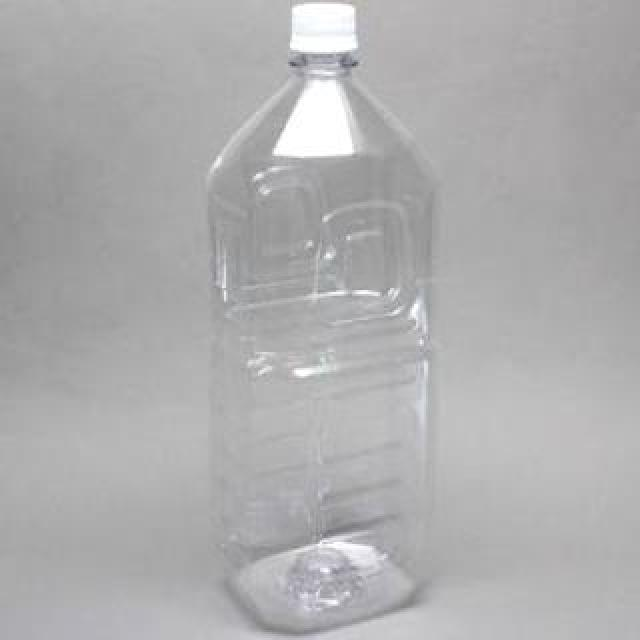Pet_Bottle: (203, 0, 439, 628)
